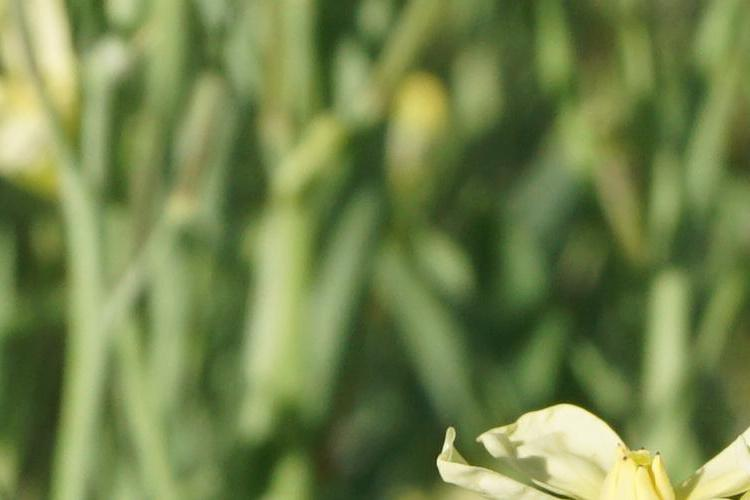white: (424, 414, 748, 500)
